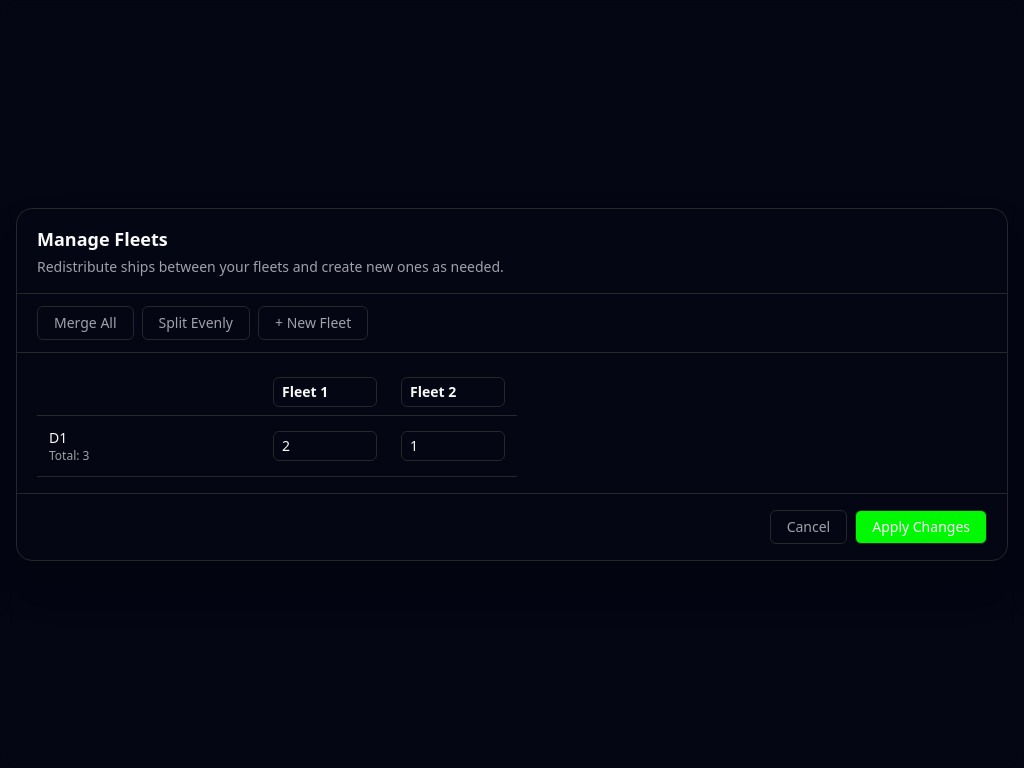
FleetComposer › Merge All sets all ships in left column
This screenshot has width=1024, height=768.
Click the button "Merge All" at (85, 322), box left=37, top=306, right=134, bottom=340
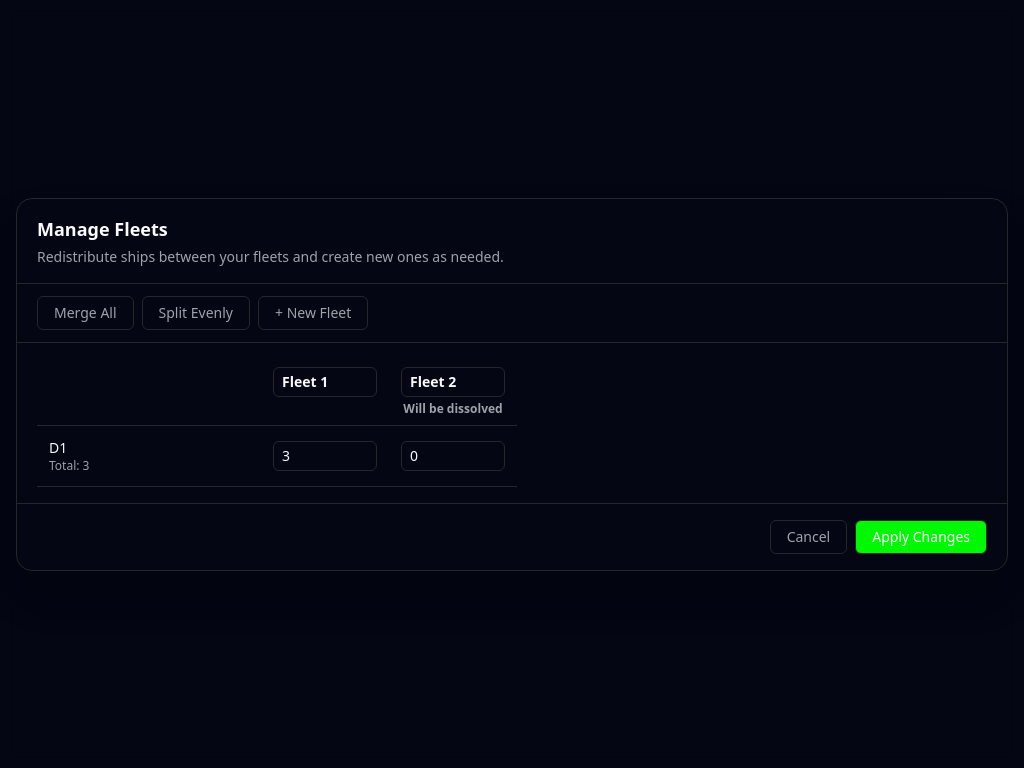
Check: the number field named "cell-0-0" holds "3", box left=273, top=440, right=377, bottom=470
Check: the number field named "cell-0-1" holds "0", box left=401, top=440, right=505, bottom=470
